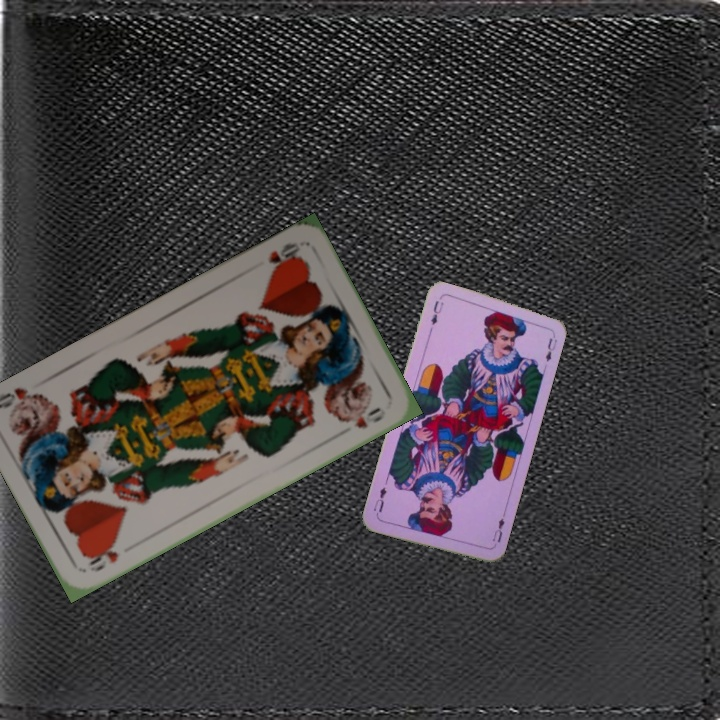EU: (425, 296, 445, 336), (488, 510, 508, 549)
HO: (264, 238, 303, 275), (83, 538, 121, 575)
